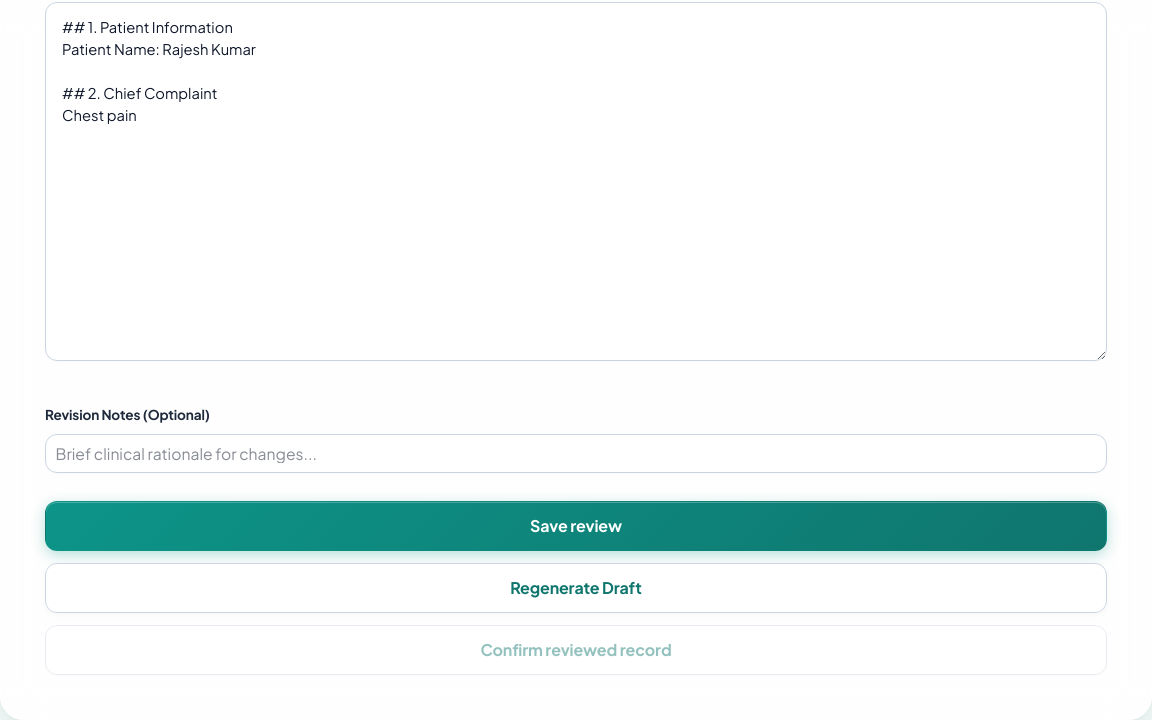
Test: Phase 8 SummaryWorkspace Component › handles draft regeneration and confirms replacement when manual edits exist
(page scrolled)
Click the button "Regenerate Draft". click: x=576, y=588
box: [45, 563, 1107, 613]
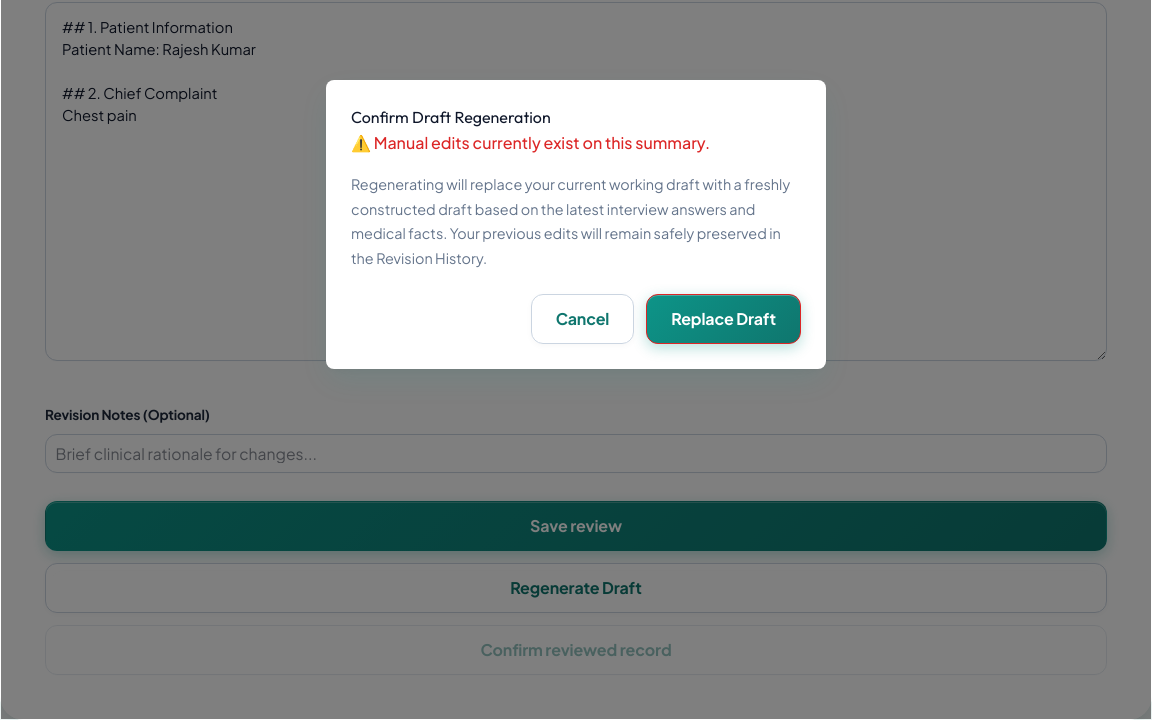
Expected: the heading "Confirm Draft Regeneration" is shown, [351, 107, 551, 127]
Click the button "Replace Draft". click: x=724, y=319
box: [646, 294, 801, 344]
(page scrolled)
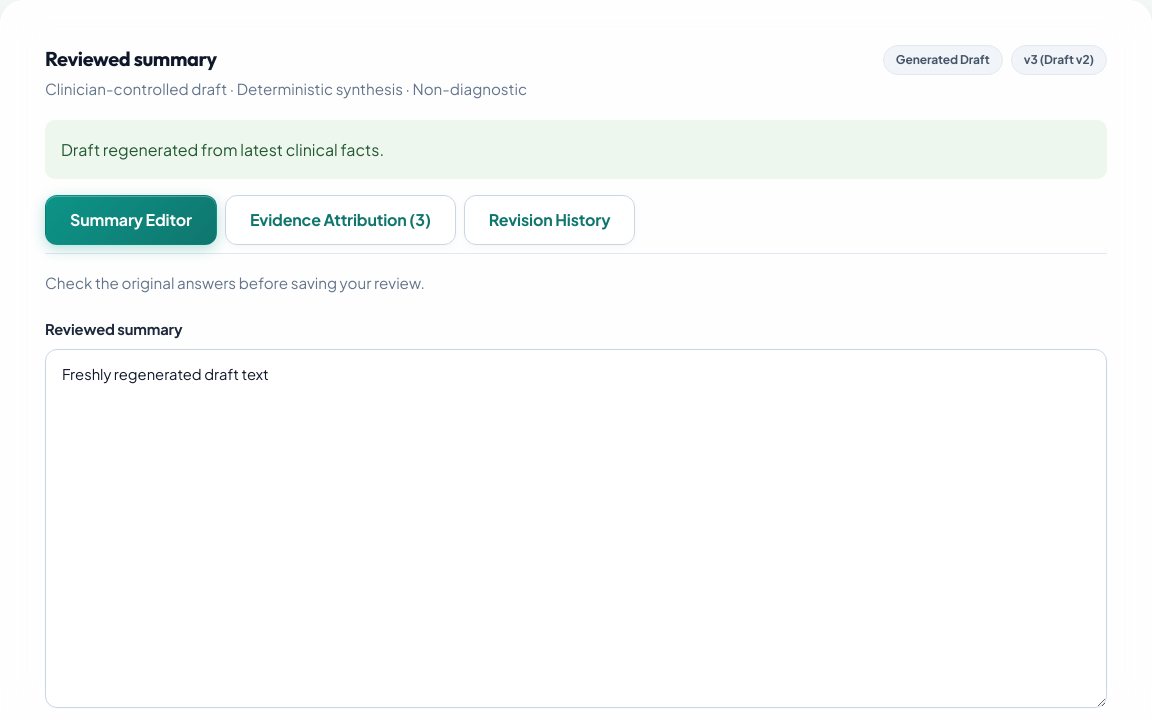
Expected: the text "Draft regenerated from latest clinical facts." is shown, [45, 120, 1107, 179]
